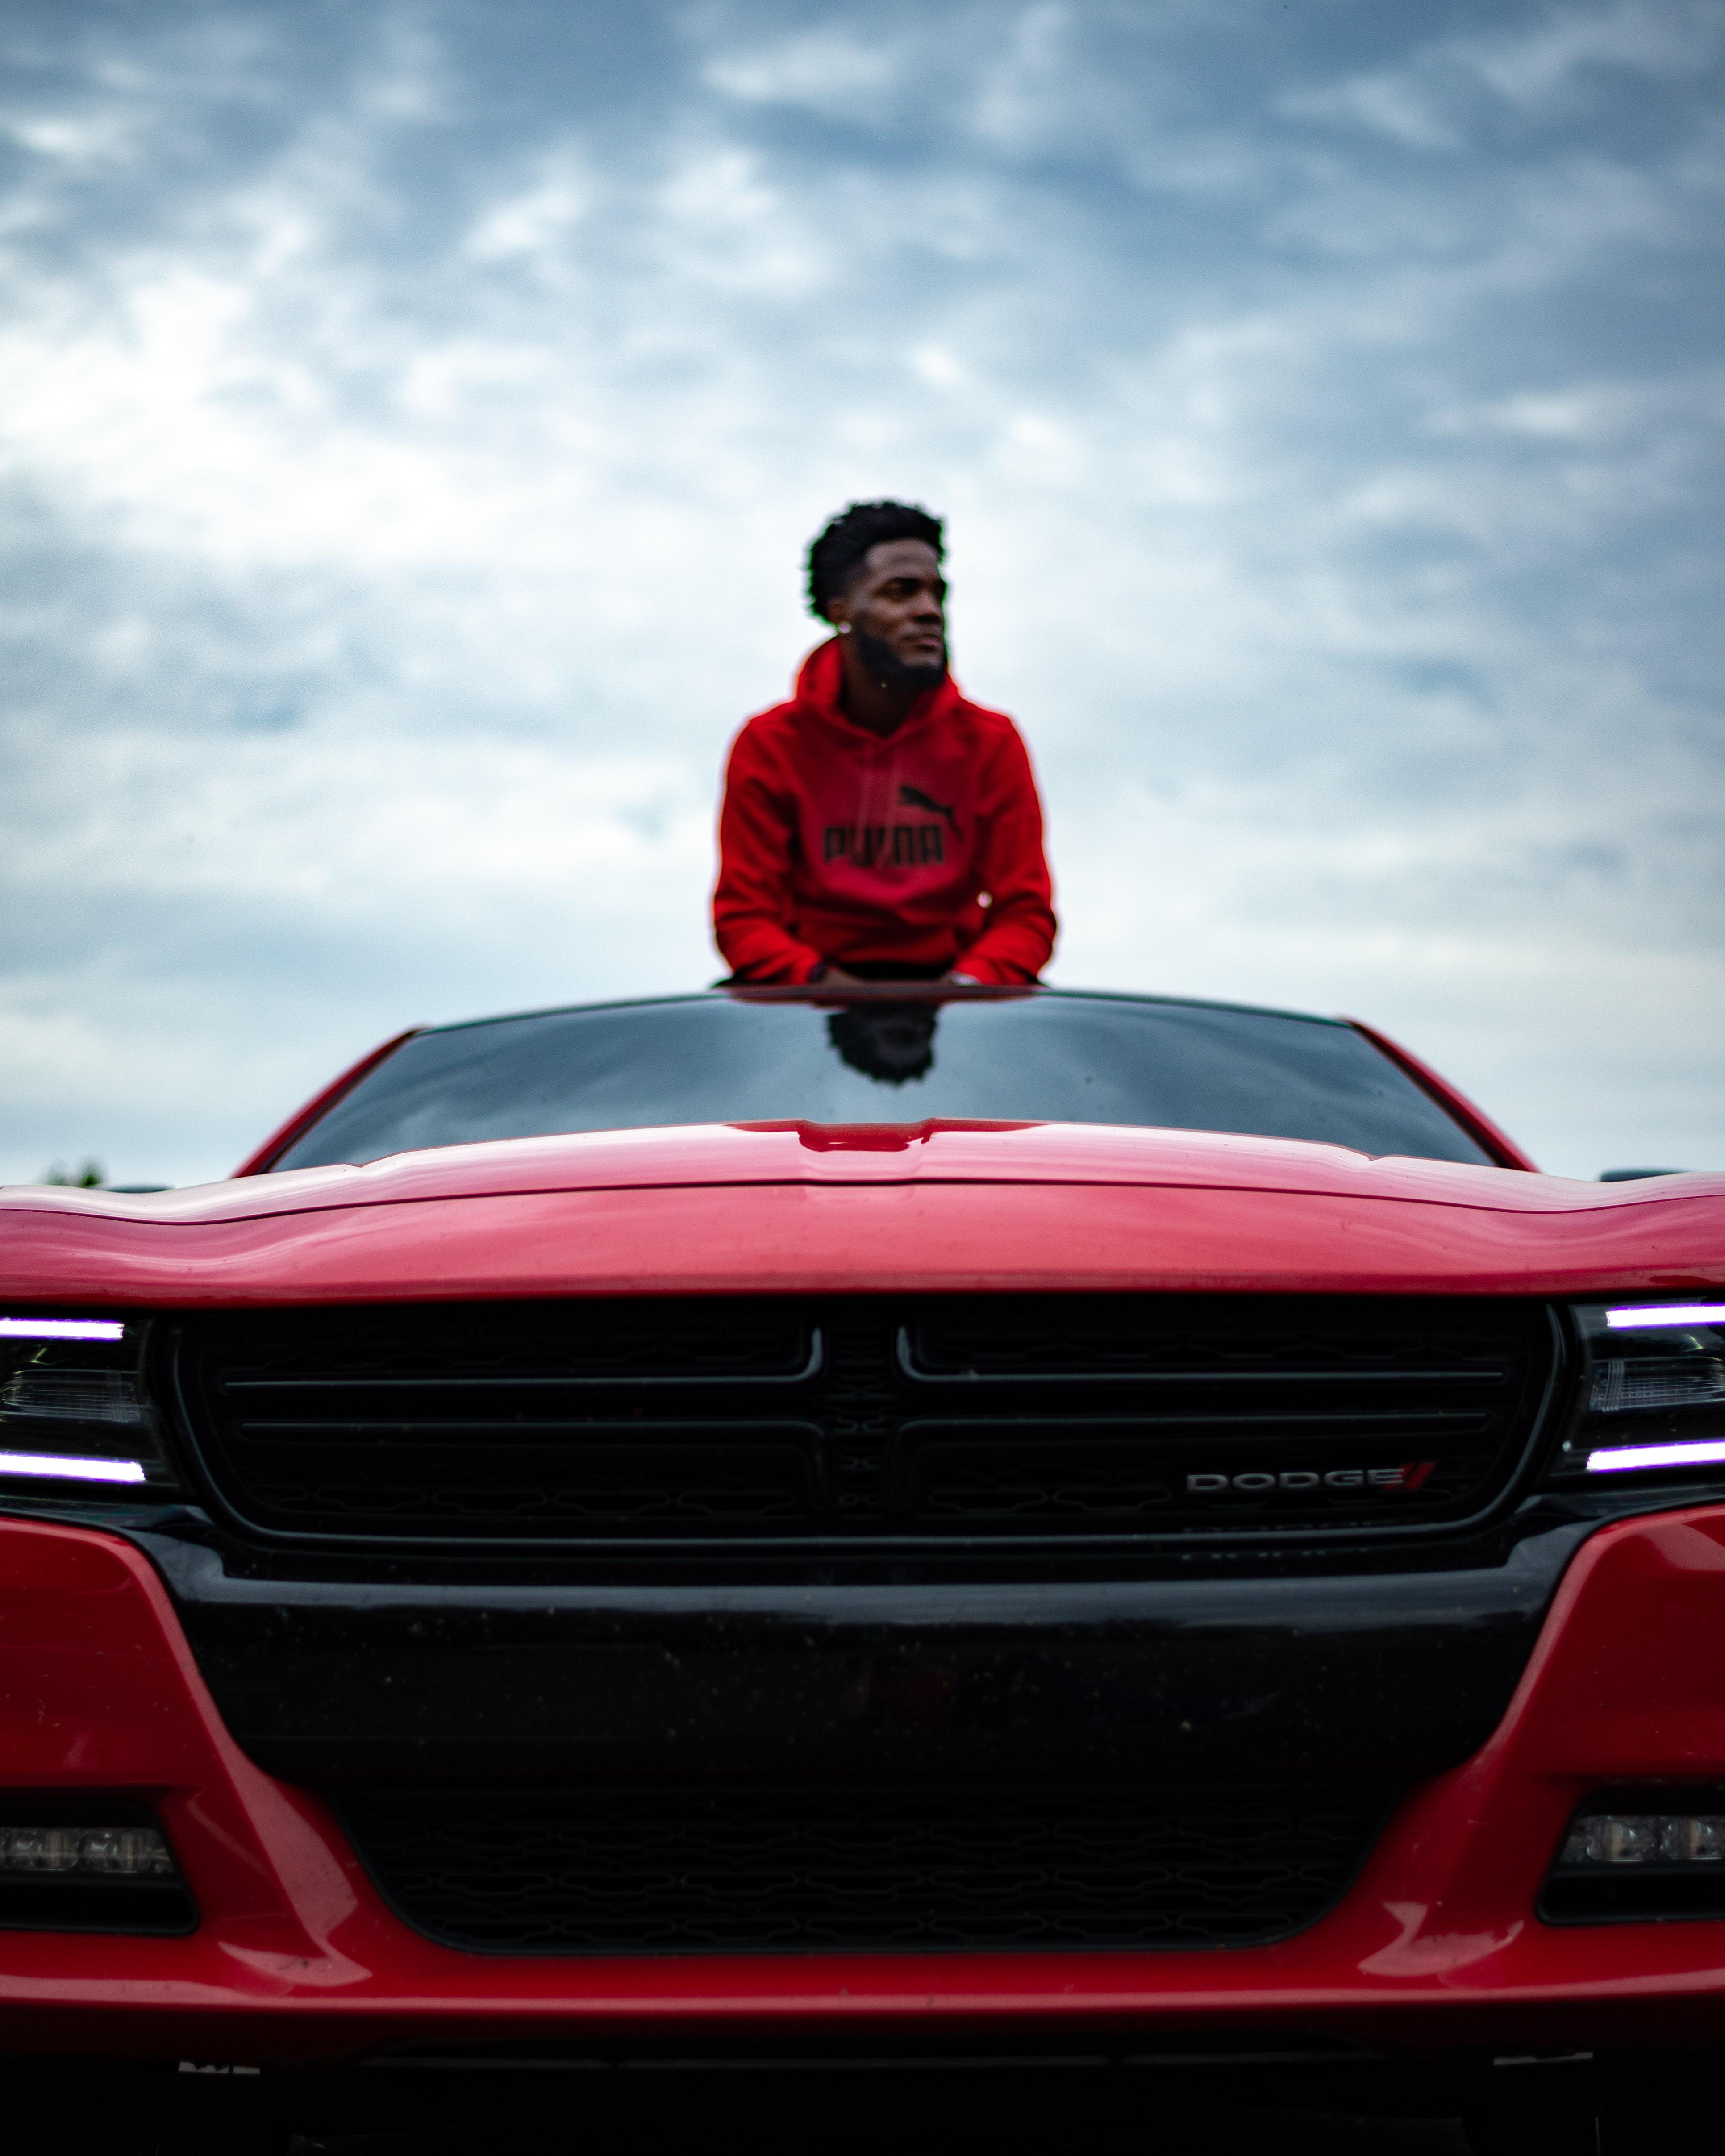dodge: (1160, 1433, 1442, 1521)
